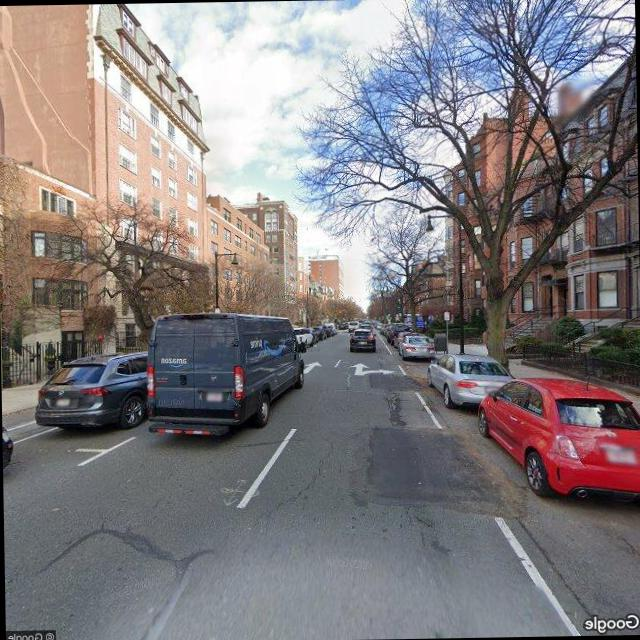crack: (255, 437, 341, 525)
